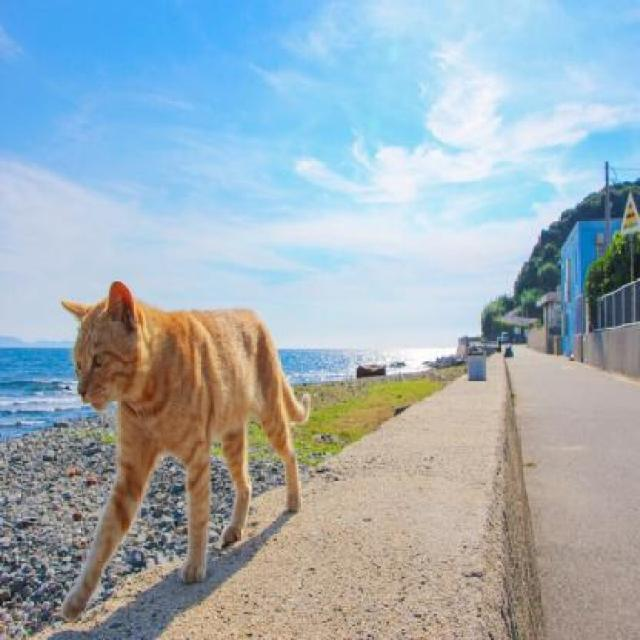cat: (47, 273, 316, 618)
